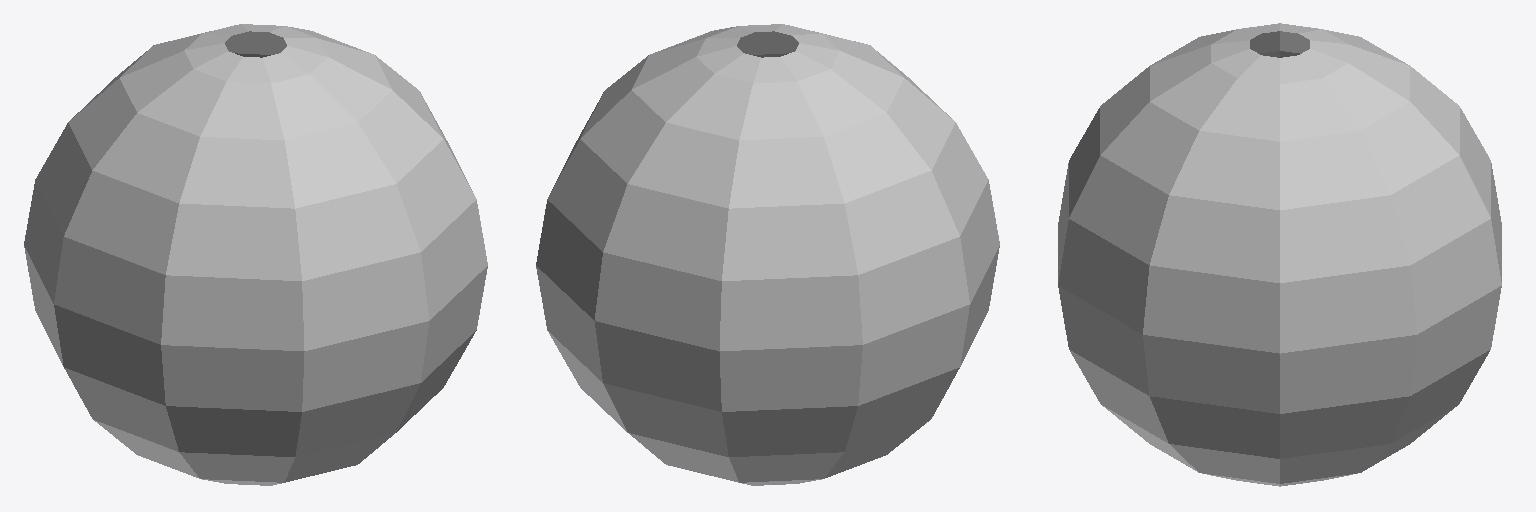
The model's file is spacesphere.obj.
The picture shows the model from 3 angles: view 1: azimuth 30°, elevation 25°; view 2: azimuth 150°, elevation 25°; view 3: azimuth 270°, elevation 25°; orthographic projection.
Visible parts, largest first — view 1: Sphere; view 2: Sphere; view 3: Sphere.
Boxes of the visible parts, x1=… form: Sphere: x1=24, y1=24, x2=487, y2=485; Sphere: x1=536, y1=24, x2=999, y2=485; Sphere: x1=1058, y1=23, x2=1501, y2=486.
Size of the model in its own units: 2 by 2 by 1.9.